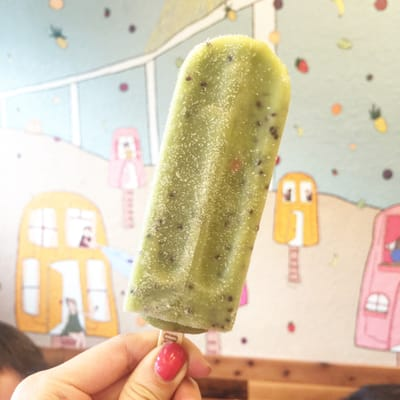pizza: (4, 329, 212, 400)
